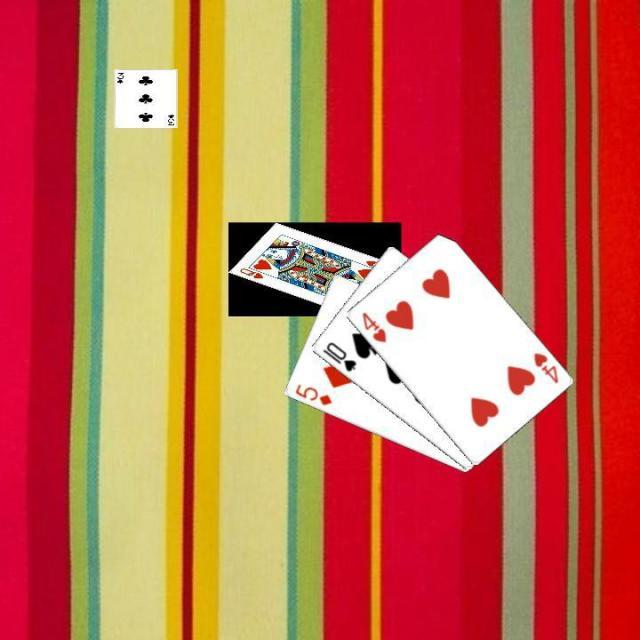10S: (318, 338, 358, 373)
4H: (529, 348, 560, 385), (358, 308, 388, 344)
5D: (290, 380, 334, 408)
